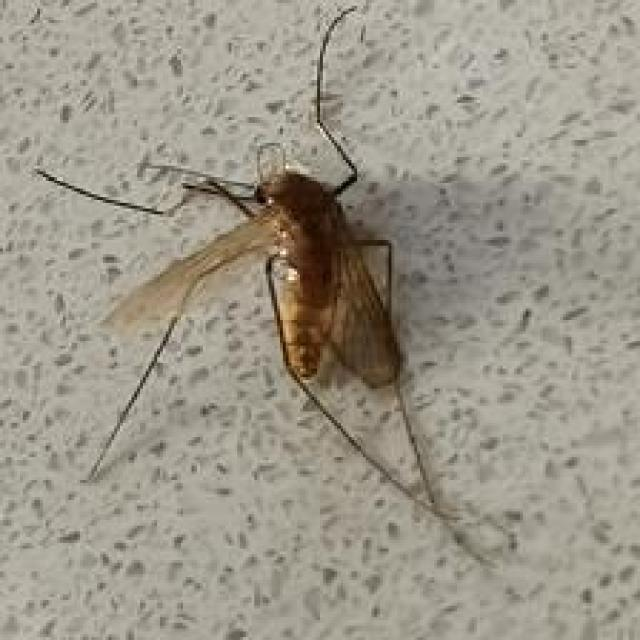Culex: (33, 1, 516, 570)
